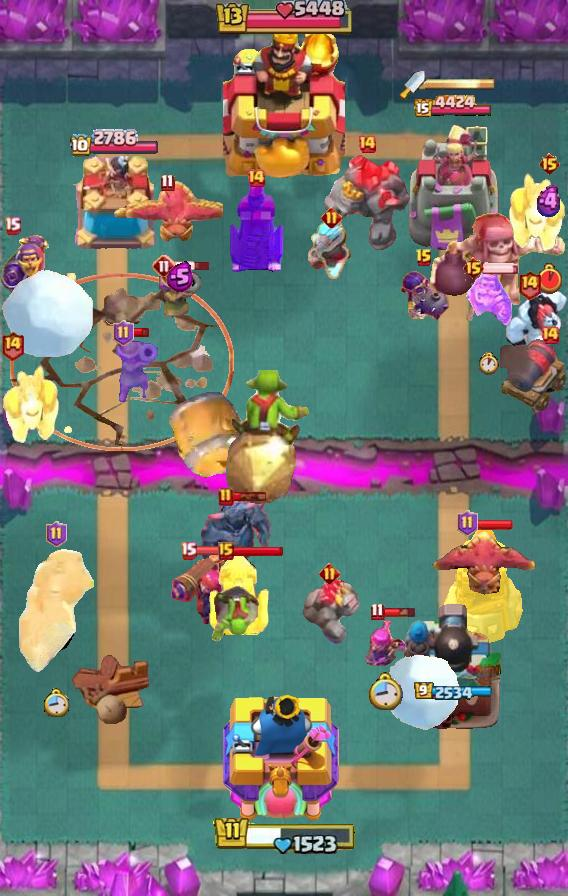bar: (406, 122, 500, 256)
bar-level: (211, 583, 261, 643)
bomb-tower: (116, 334, 158, 404), (159, 265, 201, 333)
cannoneer-tower: (321, 153, 413, 253)
clock: (212, 812, 356, 854), (213, 0, 355, 38)
dirt: (167, 388, 251, 482)
electro-giant: (426, 211, 568, 325)
electro-spirit: (535, 185, 565, 218), (166, 261, 194, 293)
elixir: (368, 672, 403, 710), (43, 687, 70, 716), (538, 263, 563, 294), (478, 352, 500, 376)
elixir-golem-small: (506, 173, 568, 253), (0, 365, 62, 445)
emote: (232, 545, 284, 557), (482, 262, 520, 274), (173, 260, 210, 272), (478, 519, 514, 531), (382, 606, 417, 618), (194, 544, 230, 555), (233, 490, 268, 501), (130, 327, 150, 338)
evolution-symbol: (359, 617, 411, 669)
firecracker-evolution: (0, 233, 48, 299), (466, 269, 512, 327)
goblin-ball: (397, 269, 451, 325)
goblin-brawler: (209, 551, 271, 635)
golemite: (196, 493, 278, 573)
guard: (10, 273, 234, 452)
ice-spirit-evolution-symbol: (226, 180, 286, 276)
king-tower: (223, 27, 345, 181), (223, 689, 345, 826)
king-tower-bar: (425, 77, 495, 91)
mega-minion: (169, 546, 229, 626)
mortar: (308, 216, 354, 280)
mother-witch: (431, 529, 539, 601), (111, 180, 223, 248)
queen-tower: (68, 156, 160, 256)
rage: (502, 289, 568, 353)
royal-giant-evolution: (500, 339, 568, 413)
selected: (68, 129, 159, 159), (413, 94, 493, 120), (414, 682, 494, 702)
text: (518, 268, 543, 299), (0, 331, 24, 362), (152, 254, 176, 278), (539, 152, 562, 176), (462, 256, 485, 280), (114, 320, 135, 346), (458, 510, 479, 536), (46, 521, 67, 547), (321, 208, 343, 229), (320, 563, 341, 585), (357, 134, 377, 154), (246, 168, 266, 188), (540, 325, 560, 345), (415, 248, 433, 268), (179, 540, 197, 559), (218, 487, 234, 507), (4, 217, 21, 235), (218, 542, 234, 560), (161, 173, 176, 191), (371, 603, 385, 622)
tower-bar: (403, 601, 503, 731)
valkyrie-evolution: (297, 580, 361, 648)
wall-breaker: (1, 268, 95, 360), (379, 652, 461, 731)
wizard: (18, 549, 94, 675)
x-bow: (223, 370, 313, 508)
zappy: (440, 525, 525, 649)
